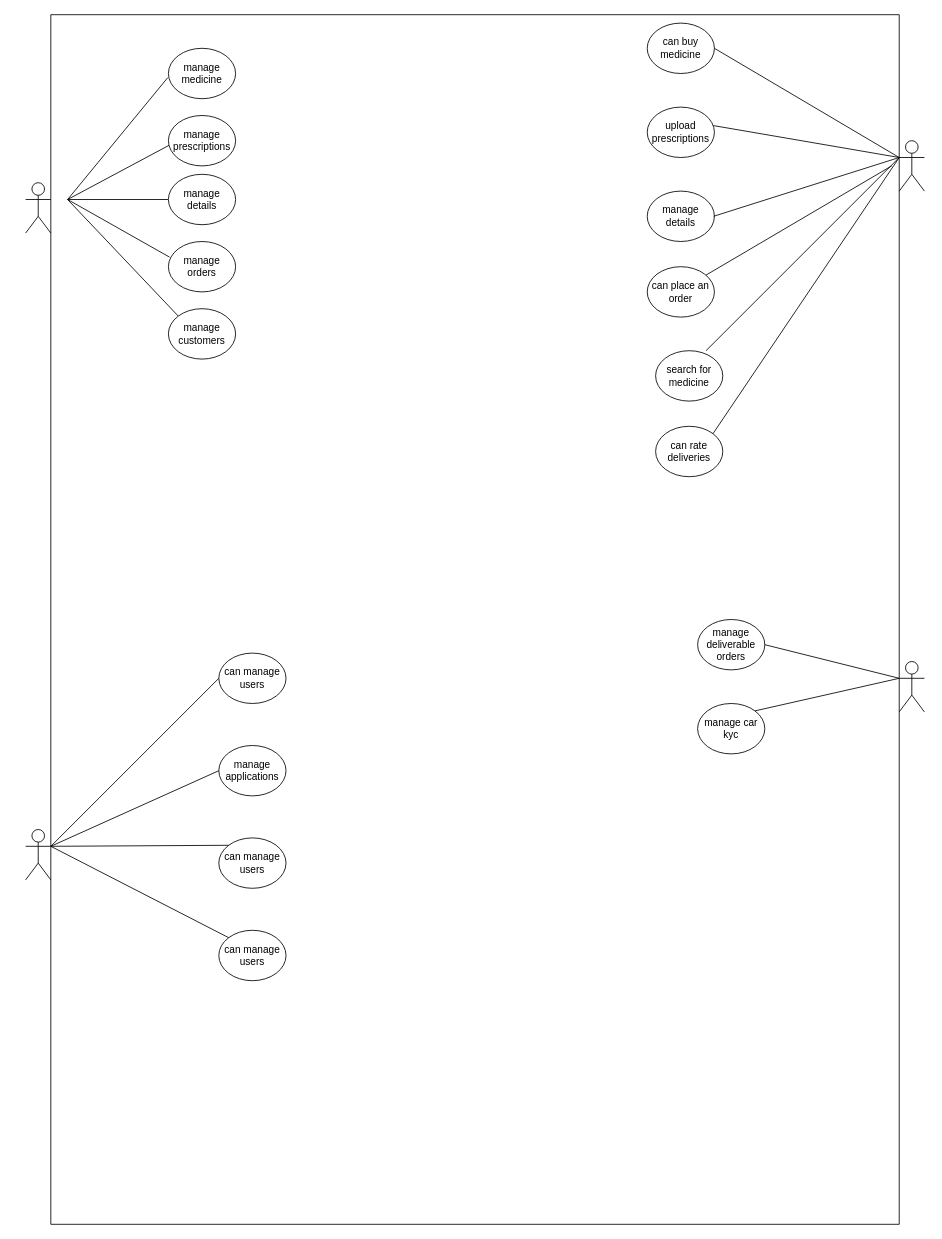
This 942x1239 diagram has some shape labels left out. The shapes that lost their labels are listed below. From the top down, each one's centre as x and y in pixels, then its label:
At (x=911, y=165): "Patient".
At (x=38, y=207): "Pharmacy".
At (x=911, y=686): "Driver".
At (x=38, y=854): "Admin".
